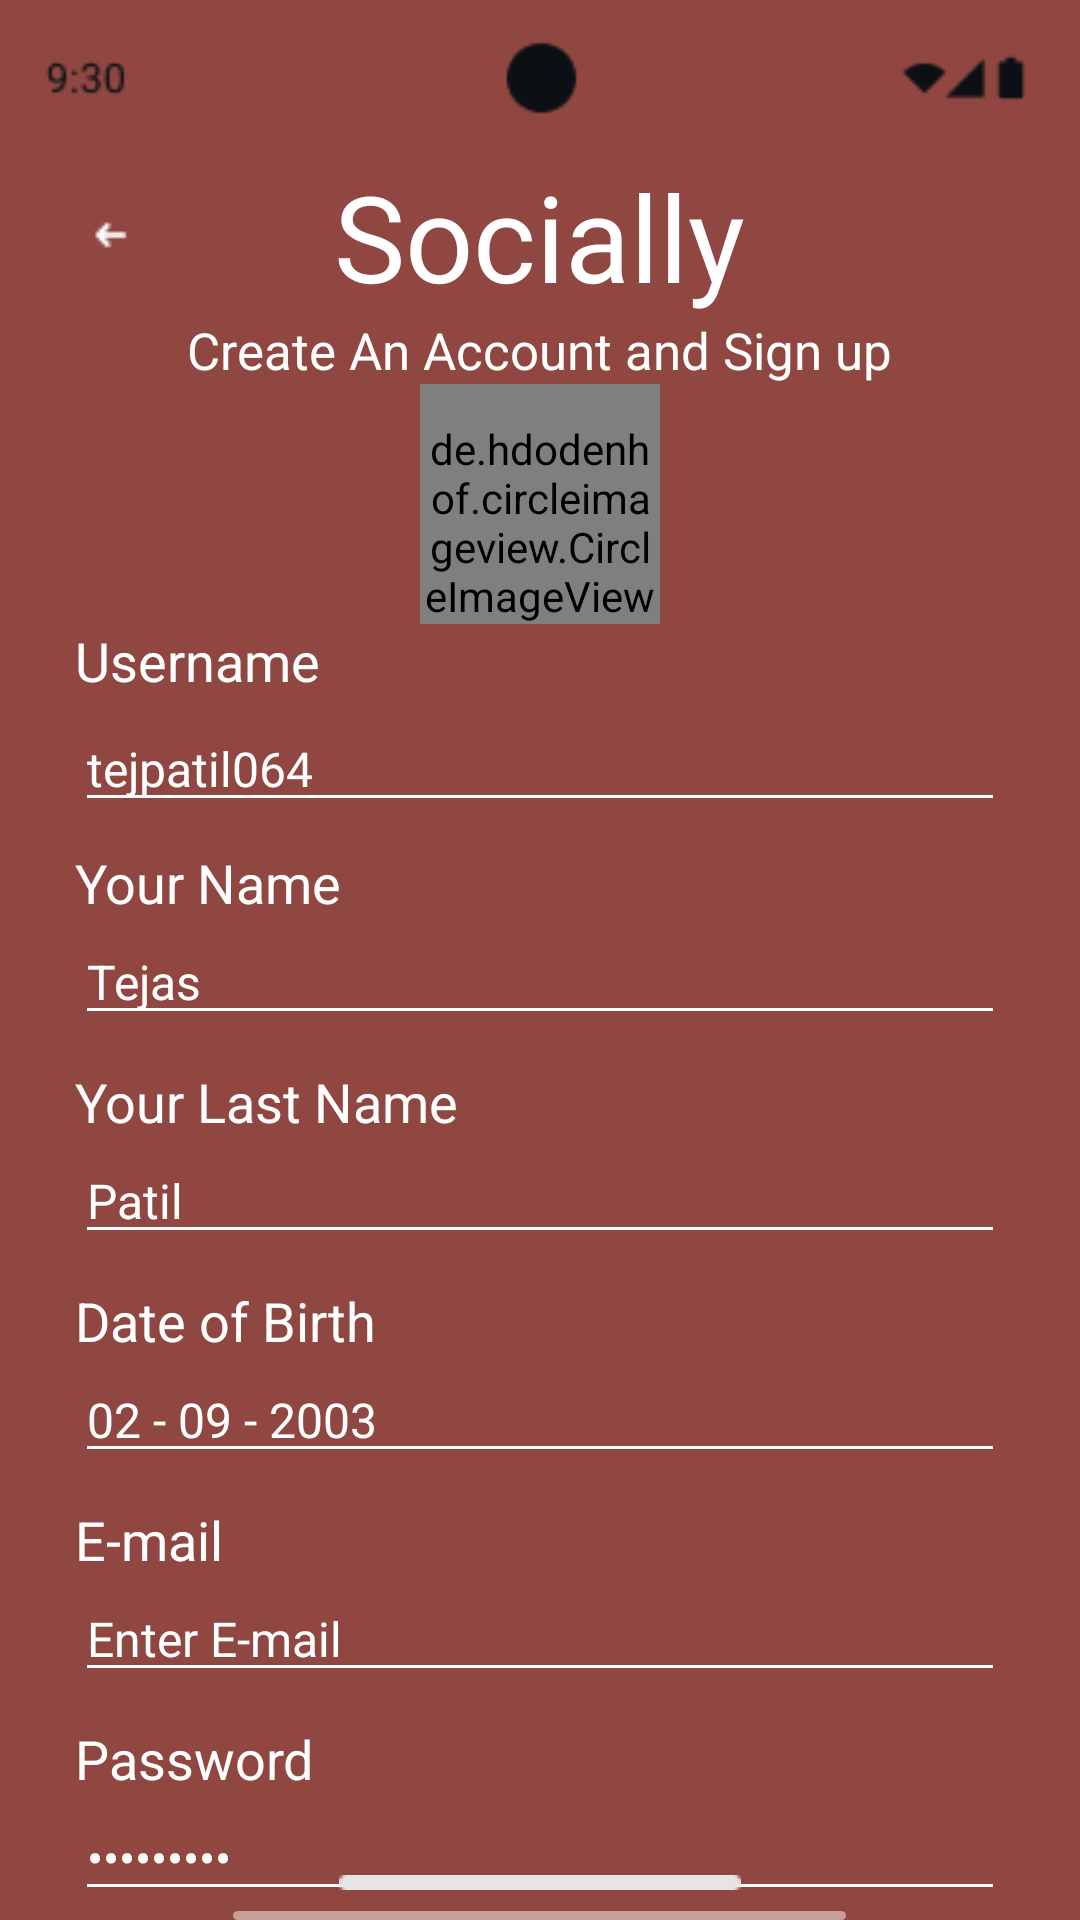

Named icons in this screenshot (1080×1920) and their bounding boxes, (x1, y1, x2, y2):
backarrow: (95, 222, 127, 248)
